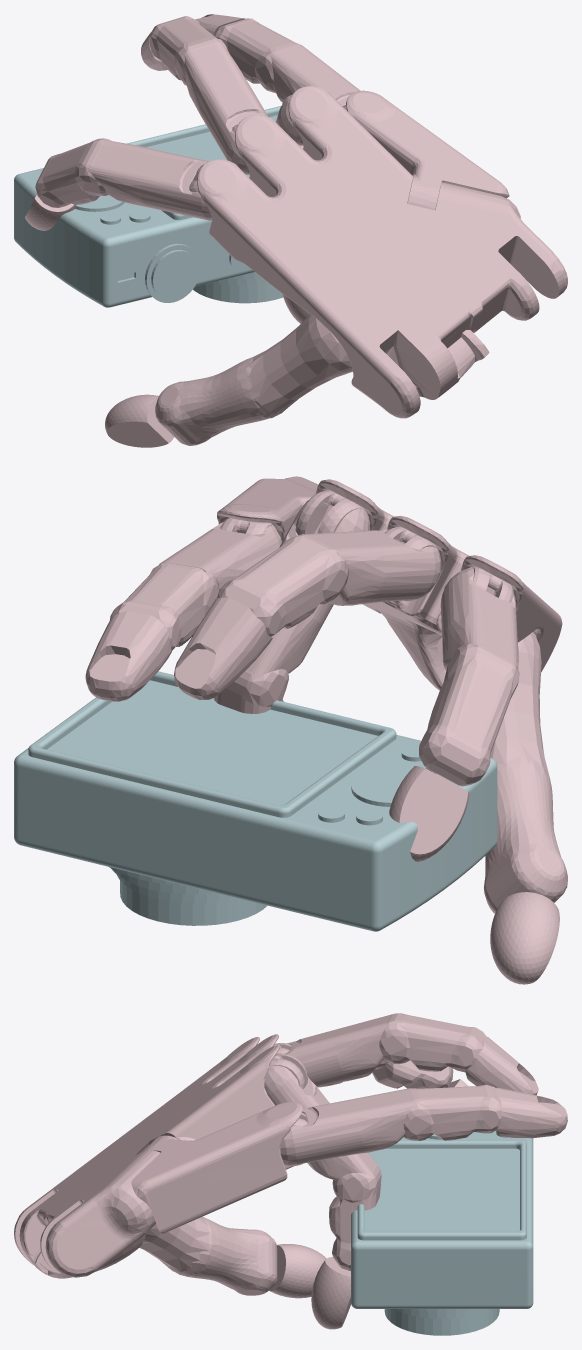
File: grasp_6.glb
3 views of the same model, one above another, from view 1: azimuth 30°, elevation 25°; view 2: azimuth 150°, elevation 25°; view 3: azimuth 270°, elevation 25° (orthographic). The views are drawn at different scales.
Parts seen in each view (by area): view 1: world; view 2: world; view 3: world.
Part boxes in pixels (bbox=[...]): world: bbox=[14, 14, 567, 447]; world: bbox=[14, 476, 567, 984]; world: bbox=[14, 1013, 567, 1335].
Bounding box in the file's own units: 0.1359 × 0.1308 × 0.1965.
